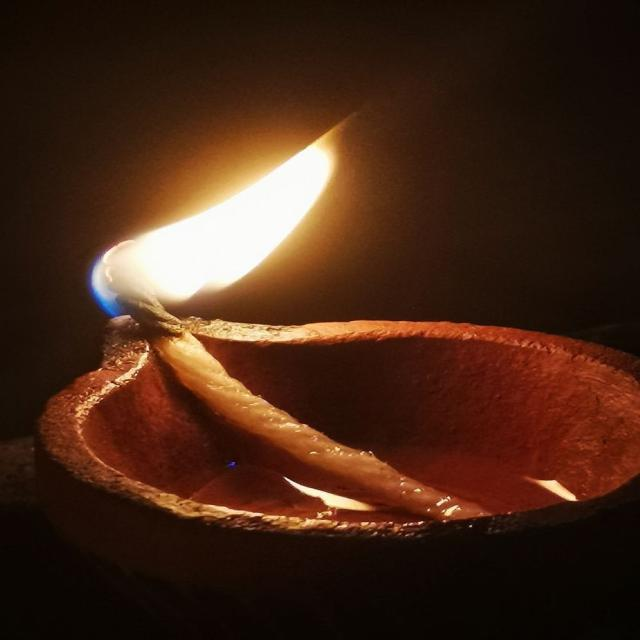fire: (88, 123, 340, 317)
